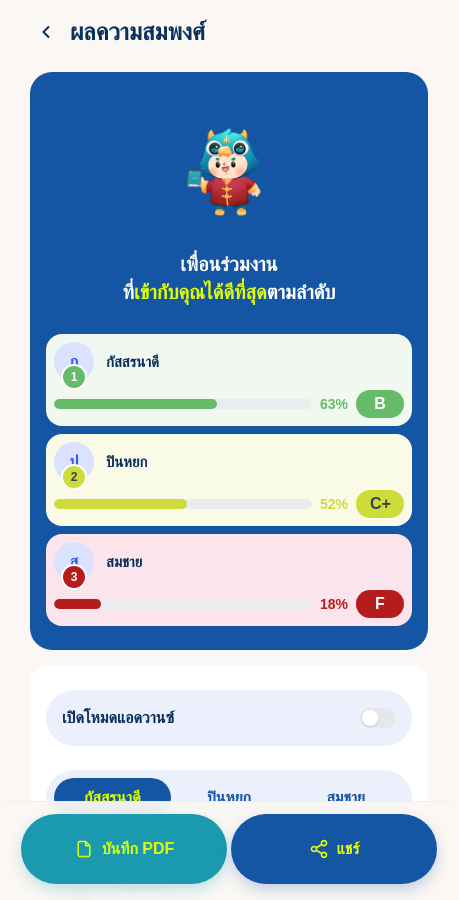
Test: #585 ก้อน 5 — the colleague result screen › กดแท็บที่สาม แล้วบล็อกล่างเปลี่ยนเป็นคนนั้นจริง
Check: the text with test id "work-person-name" reads "กัสสรนาดี", box [114,877,167,894]
Click the button with test id "work-tab-3": click(346, 798) [287,778,404,818]
(page scrolled)
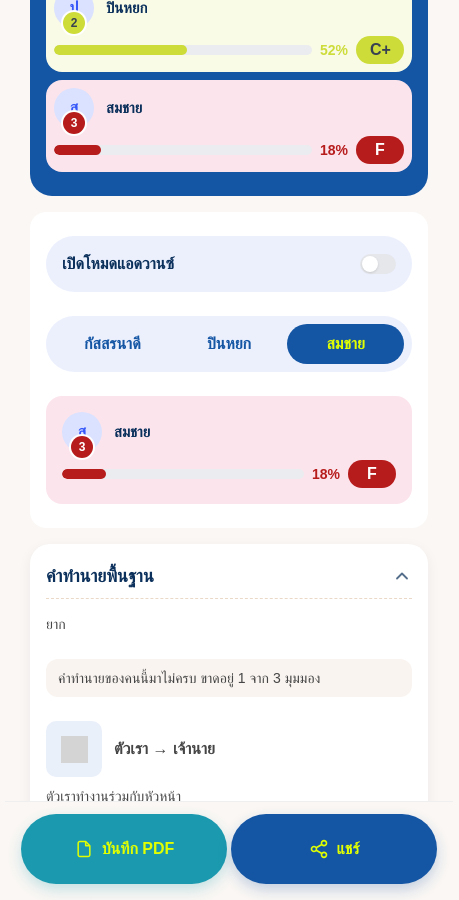
Check: the text with test id "work-person-name" reads "สมชาย", box [114,423,150,440]
